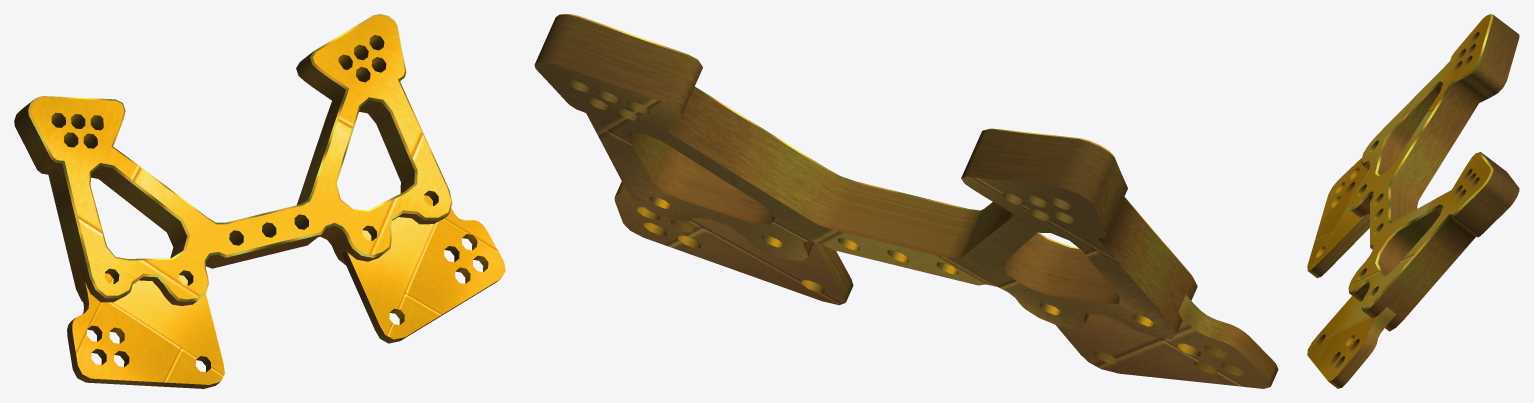
File: bodyholder04.FBX
3 views of the same model, side by side, from view 1: azimuth 30°, elevation 25°; view 2: azimuth 150°, elevation 25°; view 3: azimuth 270°, elevation 25° (orthographic). The views are drawn at different scales.
Parts seen in each view (by area): view 1: bodyholder04; view 2: bodyholder04; view 3: bodyholder04.
Part boxes in pixels (x1,y1,x2,y2): bodyholder04: [14, 14, 505, 388]; bodyholder04: [534, 14, 1278, 388]; bodyholder04: [1307, 14, 1519, 388].
Size of the model in its own units: 0.572 by 0.3084 by 0.2635.
